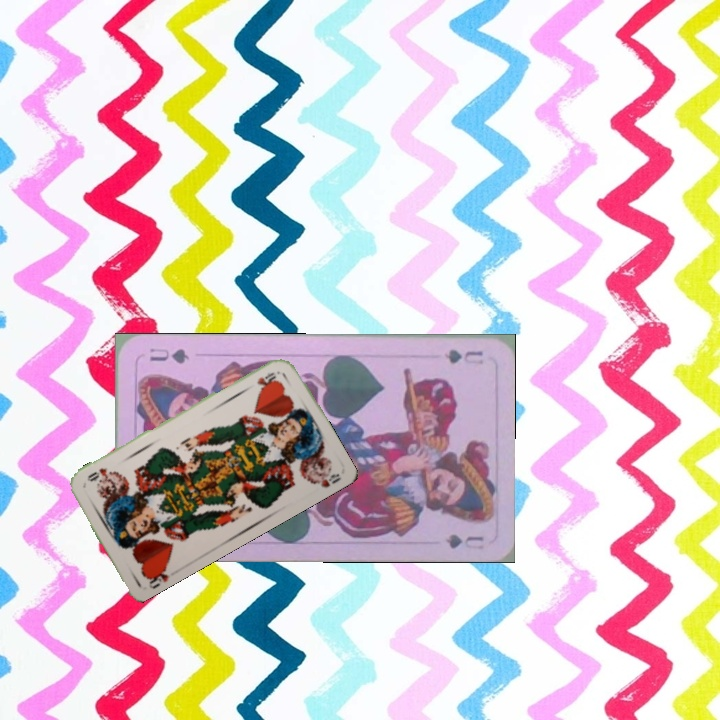GU: (440, 346, 486, 367)
HO: (142, 560, 172, 591), (253, 368, 279, 391)
